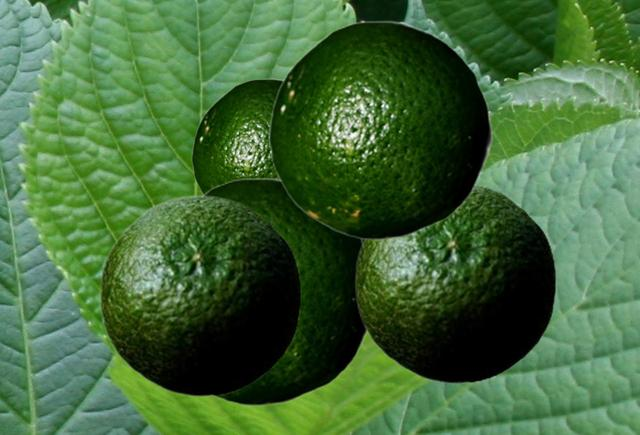calamansi: (268, 20, 492, 239), (99, 194, 300, 396), (354, 182, 555, 383), (199, 177, 368, 405), (191, 78, 281, 193)
